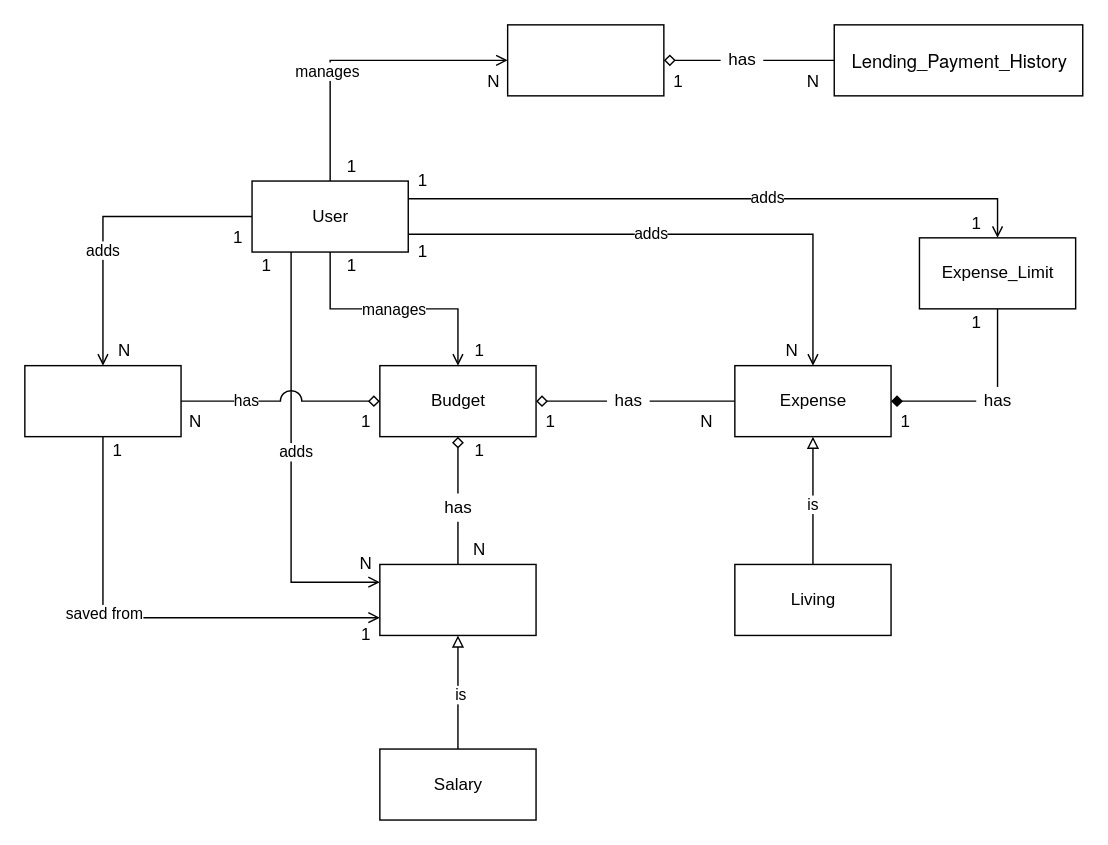
Image size: 1108x845. Some labels were removed from this diagram. The shapes that lost their labels are listed below. From the top down, each one's centre as x and y in pixels, then its label:
At (x=585, y=59): "Lending".
At (x=102, y=400): "Saving".
At (x=457, y=599): "Income".
